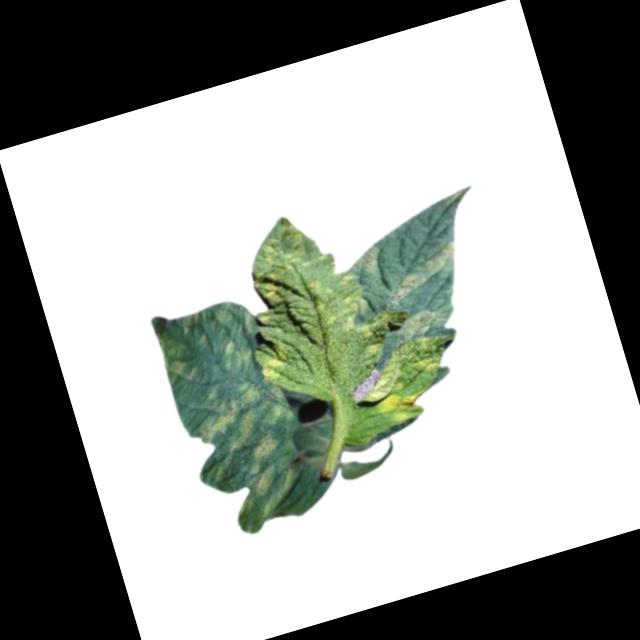Leaf_Mold: (193, 374, 318, 539), (233, 204, 368, 353), (175, 294, 265, 380), (376, 241, 466, 309), (371, 375, 435, 430), (387, 300, 455, 350), (146, 324, 197, 388), (254, 343, 294, 382)
